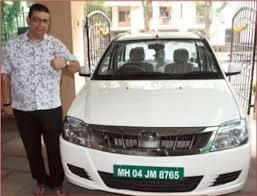Liscence Plate: (114, 166, 182, 179)
